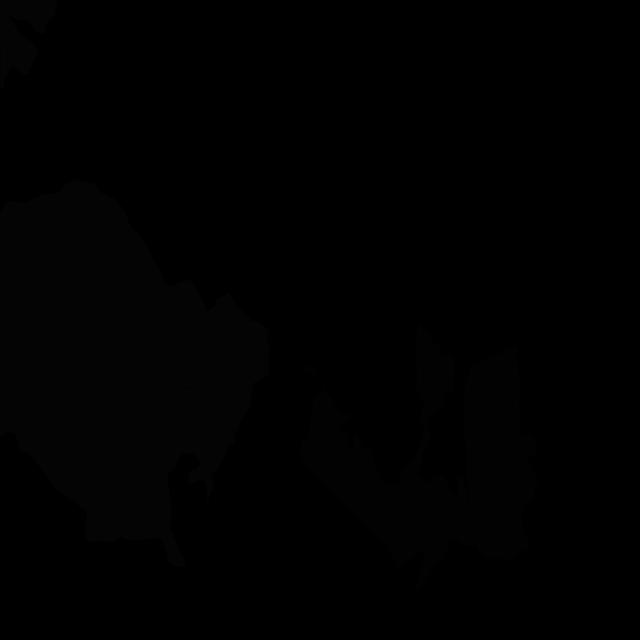cardboard: (386, 401, 476, 594), (298, 386, 402, 547), (464, 345, 528, 561), (415, 323, 455, 416), (520, 434, 539, 506), (300, 364, 321, 378)
soft_plastic: (0, 180, 207, 567), (128, 292, 271, 471), (0, 0, 58, 90), (188, 464, 214, 504)
